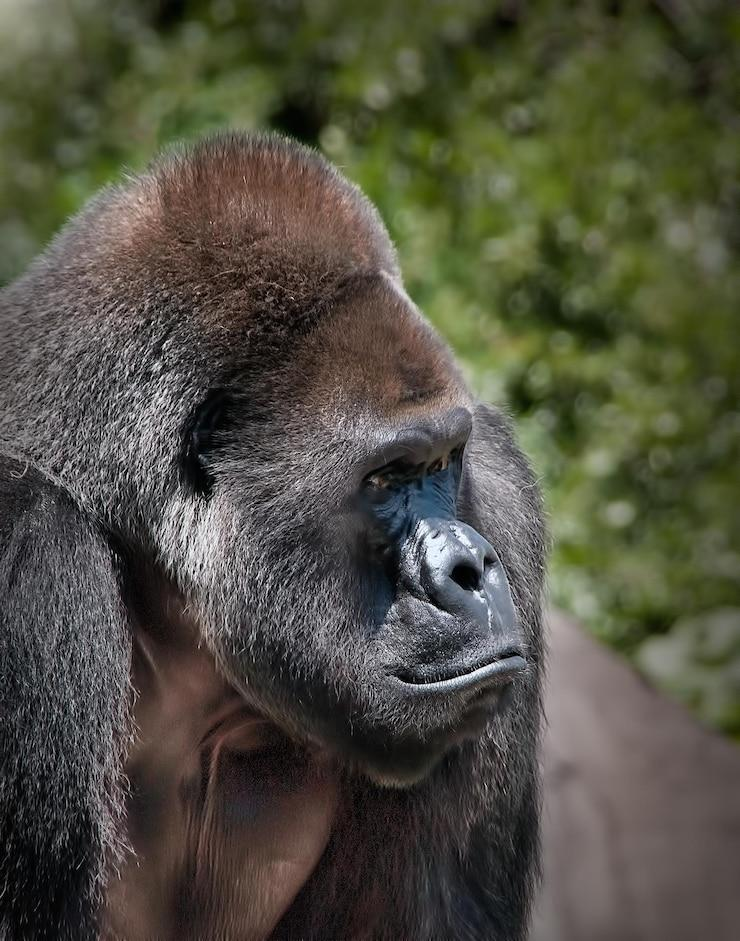gorille_Autres: (0, 25, 650, 941)
